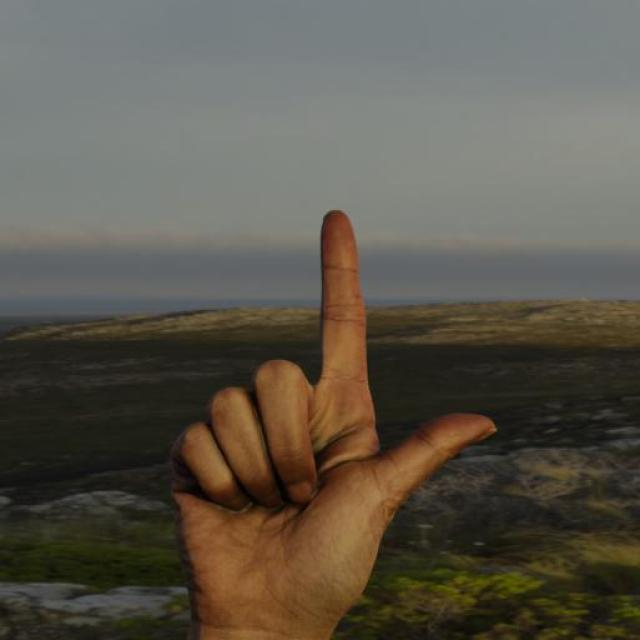L: (165, 208, 500, 628)
